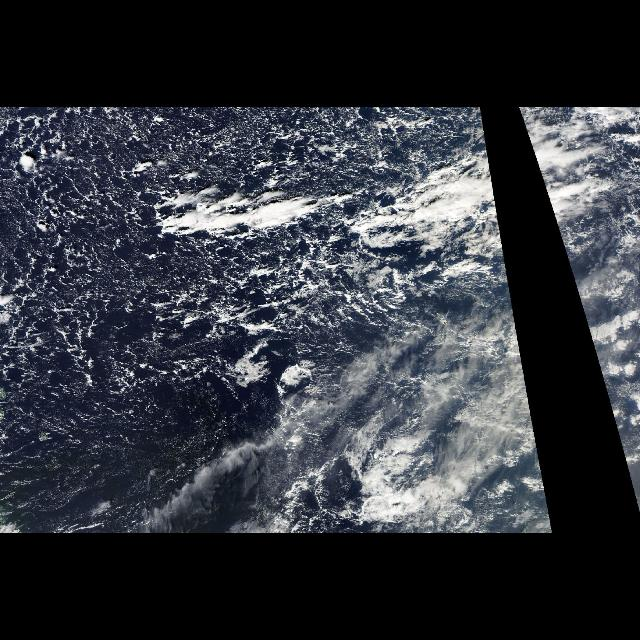Gravel: (2, 109, 246, 452)
